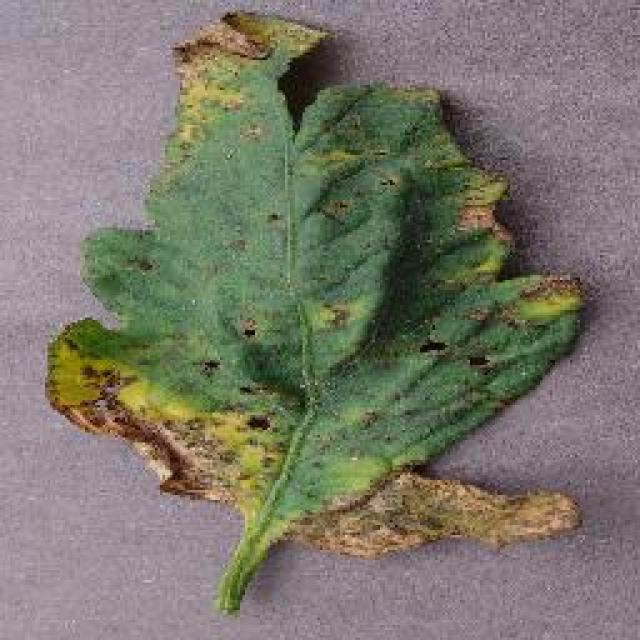Tomato___Bacterial_spot: (39, 4, 585, 614)
